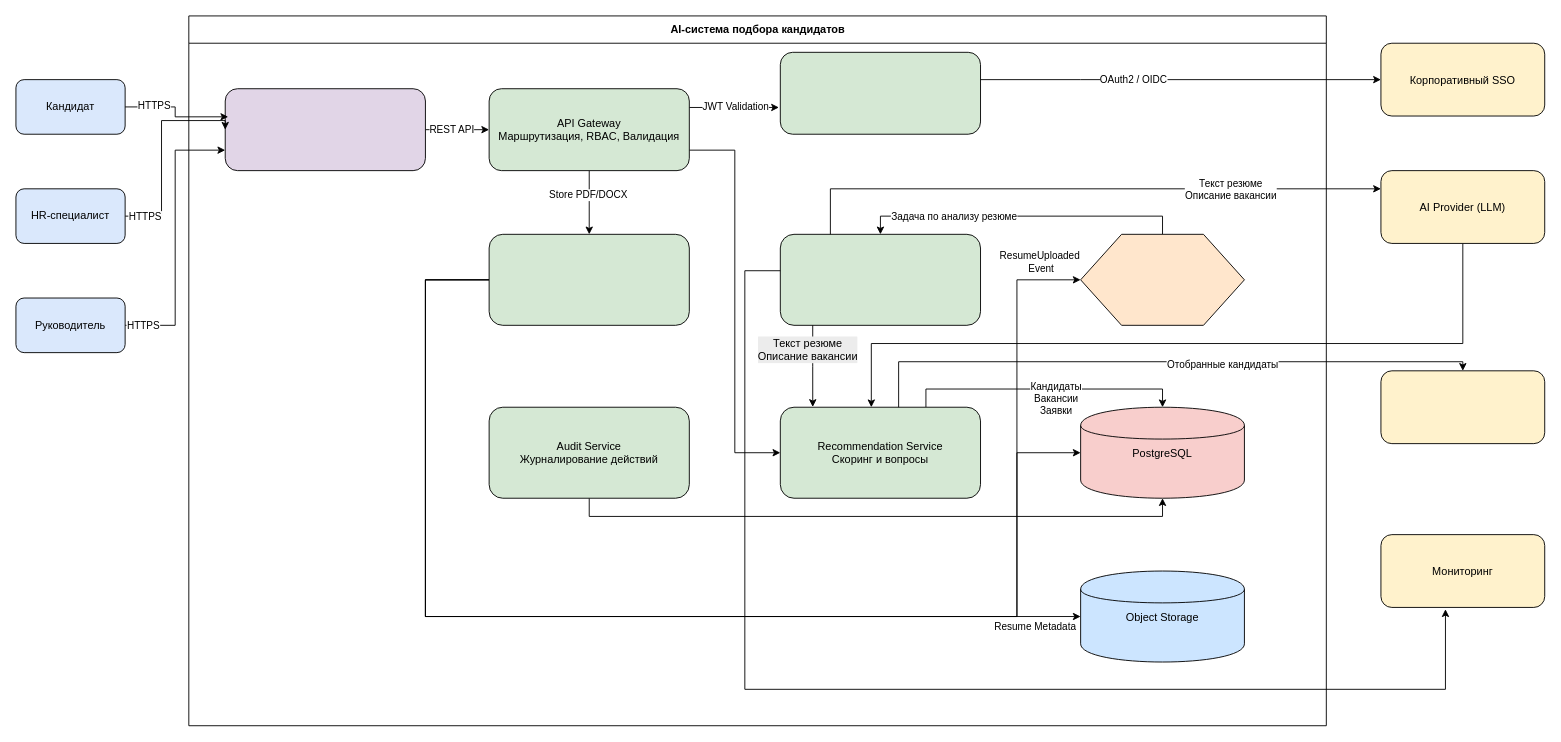
The diagram is 1561 pixels wide and 742 high, and some of its shapes have lost their labels. Each missing label, with the centre of its shape:
AI Analysis Service Извлечение навыков, NLP: (880,279)
ATS / CRM: (1462,407)
Auth Adapter JWT / SSO: (880,92)
Message Broker: (1162,279)
Resume Service Загрузка, парсинг, хранение: (588,279)
Web UI Кандидат / HR / Руководитель: (324,129)
